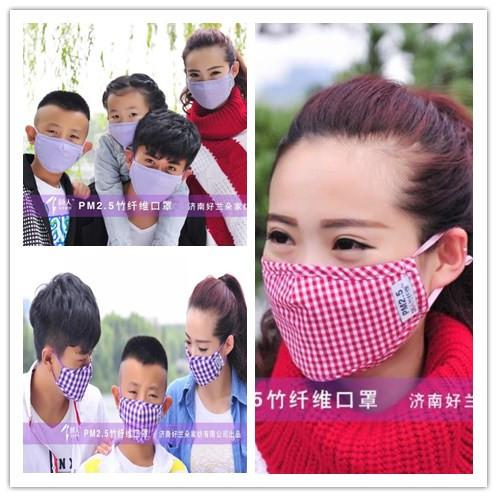OK: (261, 204, 440, 383), (129, 149, 185, 205), (119, 379, 168, 435), (37, 121, 89, 173), (51, 342, 98, 399), (187, 327, 231, 384), (184, 63, 231, 110), (107, 105, 148, 146)
